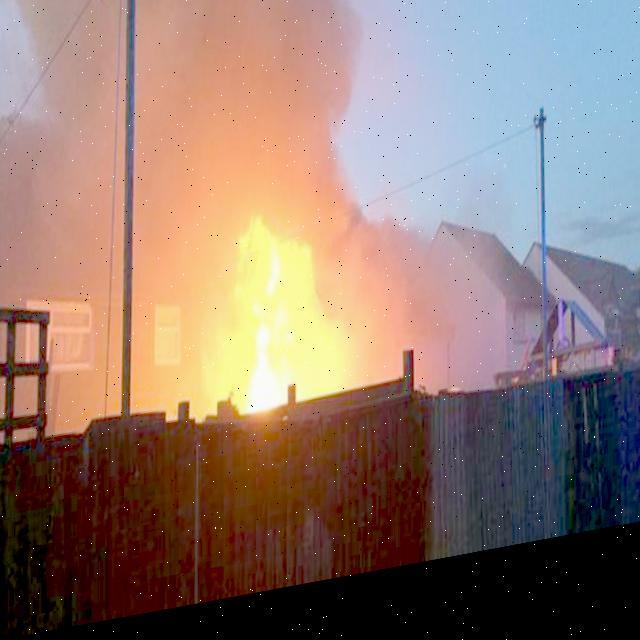Fire: (200, 215, 350, 430)
